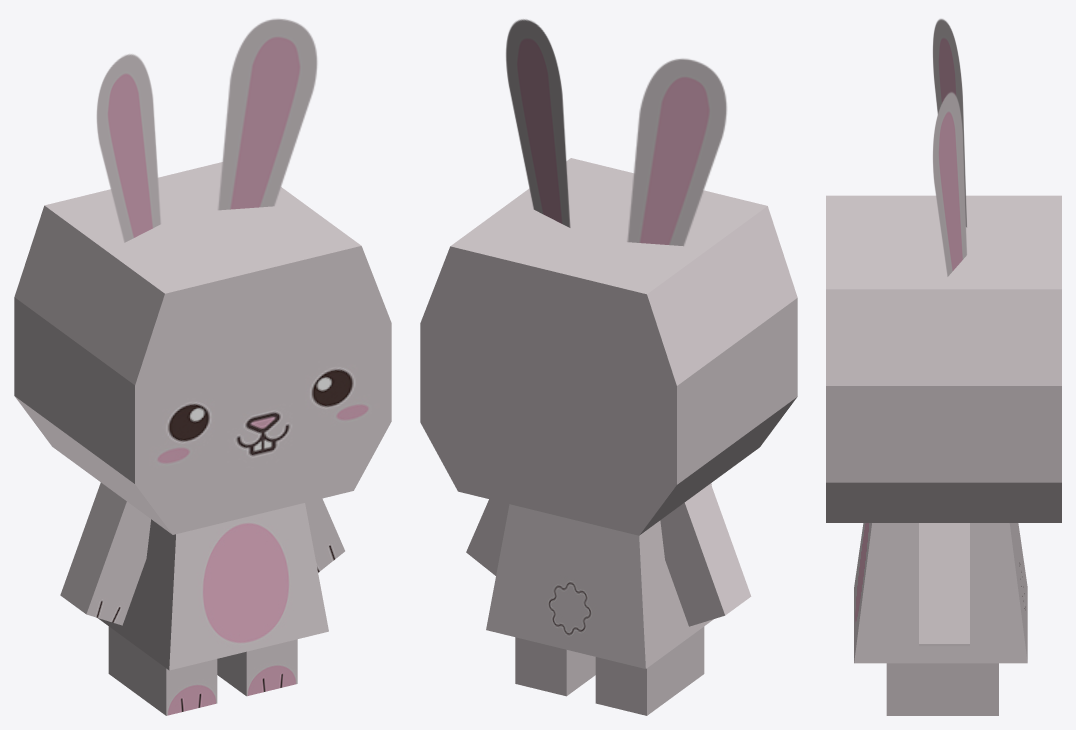
File: Conejito.glb
The picture shows the model from 3 angles, left to right: view 1: azimuth 30°, elevation 25°; view 2: azimuth 150°, elevation 25°; view 3: azimuth 270°, elevation 25°; orthographic projection. The views are drawn at different scales.
Parts seen in each view (by area): view 1: Cube; view 2: Cube; view 3: Cube.
Boxes of the visible parts, x1,y1,x2,y2 form: Cube: (14,18,391,715); Cube: (420,19,797,715); Cube: (826,19,1061,715).
Bounding box in the file's own units: 0.198 × 0.4708 × 0.1598.
2 materials, 2 textured.
